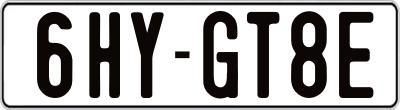6: (36, 12, 72, 101)
8: (288, 9, 324, 102)
E: (339, 12, 374, 98)
G: (201, 11, 242, 99)
H: (87, 9, 120, 101)
T: (247, 12, 284, 100)
Y: (130, 10, 168, 98)
